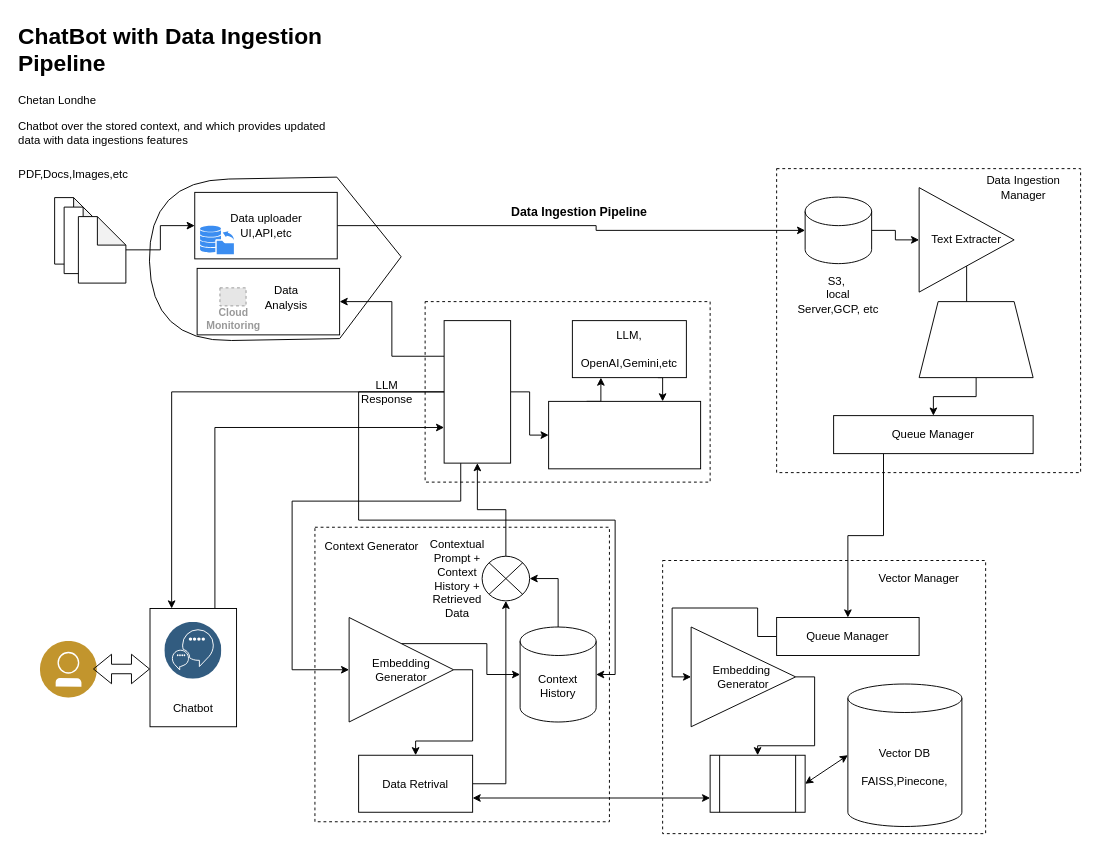
The diagram is 1097 pixels wide and 850 high, and some of its shapes have lost their labels. Grey dashed boxes stand in for pictures. The centre of each missing label's shape, as x and y in pixels:
"Chunking Fixed-Lengths Chunks, Sentence-based, etc" belongs at [975,339].
"Embeddings Loader and Extractor" belongs at [757,783].
"LLM Handler" belongs at [624,434].
"LLM Manager API" belongs at [477,391].
"Temp datastore" belongs at [838,230].
